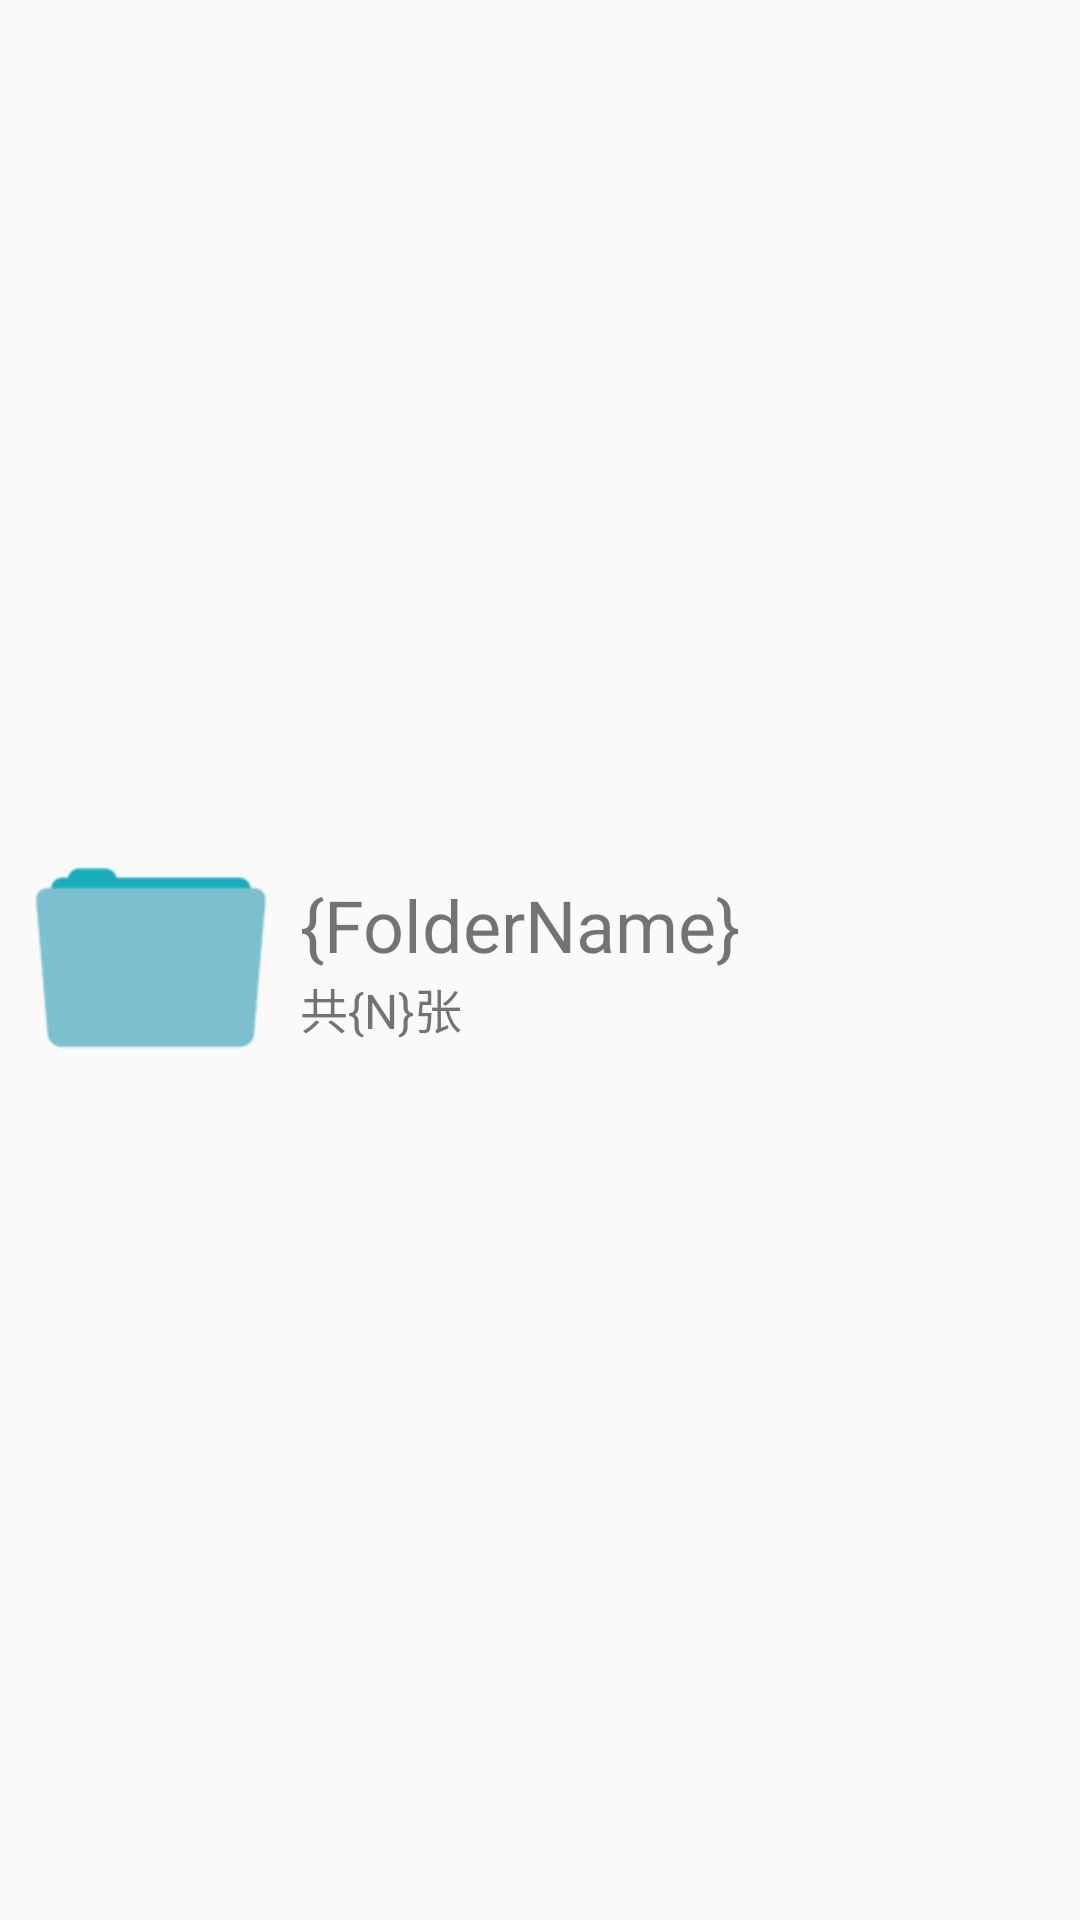

Icons on this 1080w x 1920h Android screen, each with the point to tap as [x,y]:
folder plain: [150,957]
